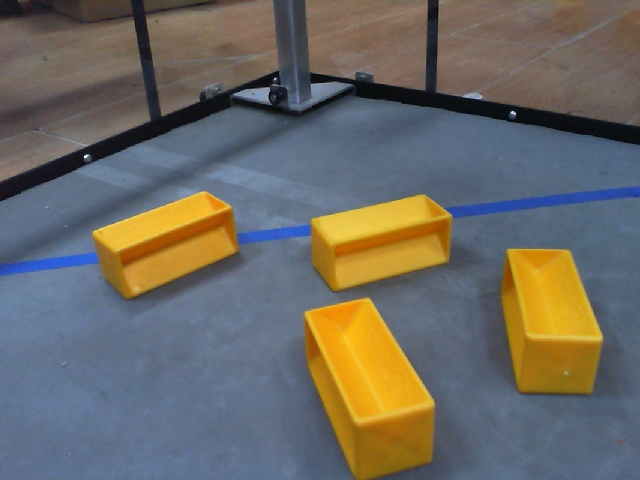YellowSample: (298, 295, 446, 480), (494, 242, 606, 405), (88, 189, 243, 302), (305, 191, 461, 294)
